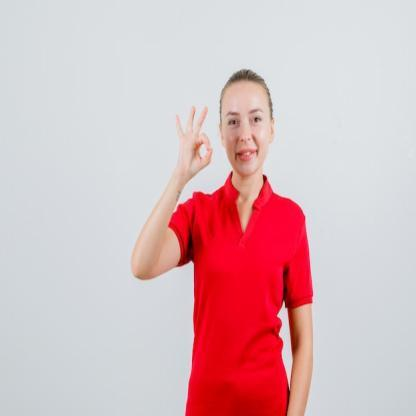ok: (174, 104, 214, 178)
